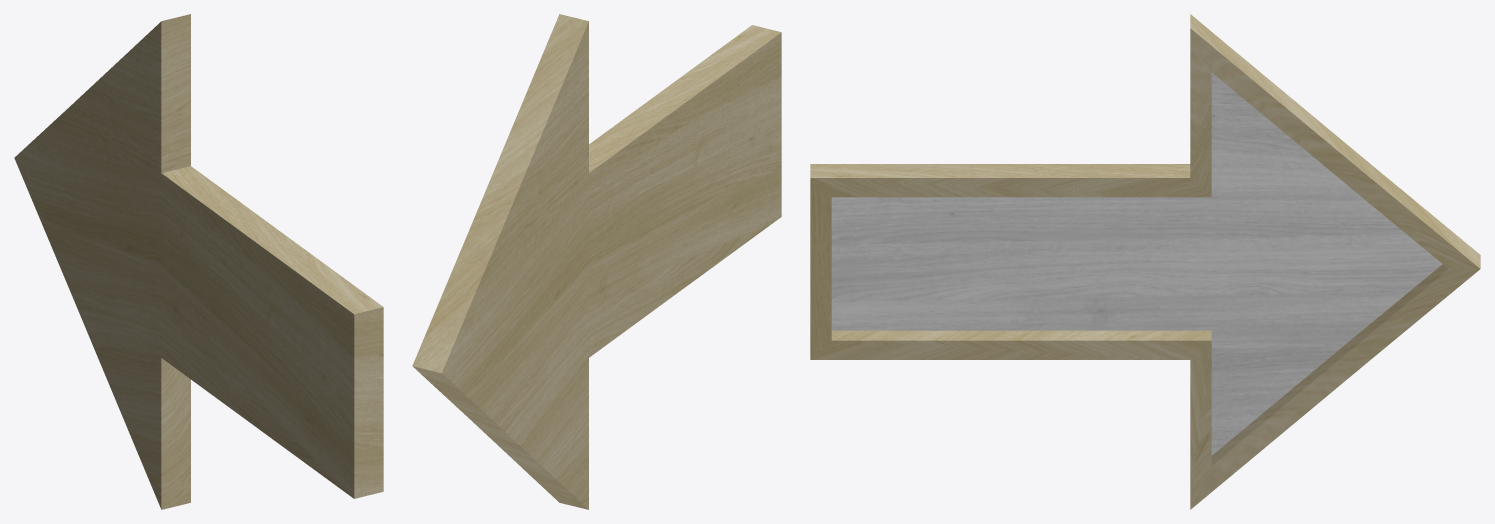
Rendered from Bord Pijl.fbx.
3 renders of one model, left to right at view 1: azimuth 30°, elevation 25°; view 2: azimuth 150°, elevation 25°; view 3: azimuth 270°, elevation 25°, orthographic.
Parts seen in each view (by area): view 1: Arrow; view 2: Arrow; view 3: Arrow.
Boxes of the visible parts, x1,y1,x2,y2 form: Arrow: (14, 14, 383, 509); Arrow: (412, 14, 781, 509); Arrow: (810, 14, 1480, 509).
Bounding box in the file's own units: 4.83 × 76.29 × 96.16.
Materials: 1 (1 with a texture image).
